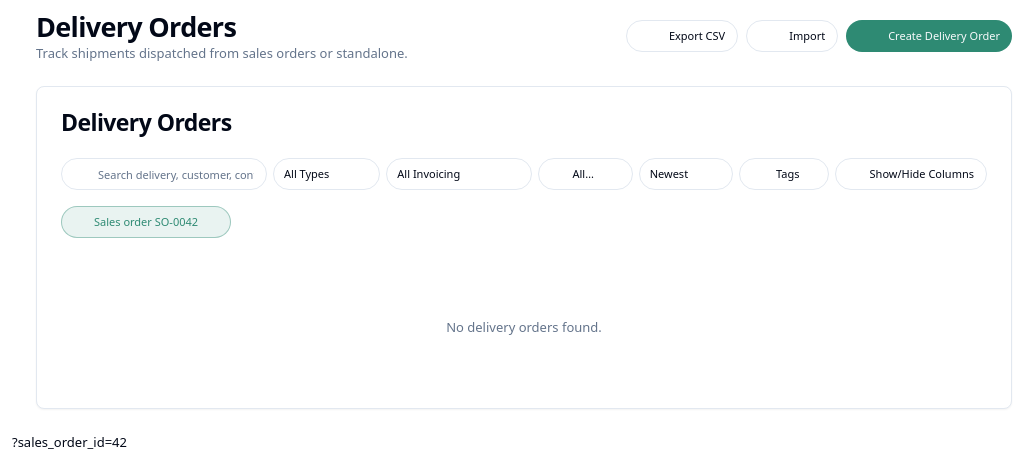
Test: #403 — list pages honour sales_order_id from the URL › Delivery Orders list filters by the sales order and shows a removable chip
The width and height of the screenshot is (1029, 466).
Expected: the element with test id "sales-order-filter-chip" reads "Sales order SO-0042", [61,206,231,238]
Click the button with test id "sales-order-filter-chip-remove". click: (215, 222)
box: [206,213,224,231]
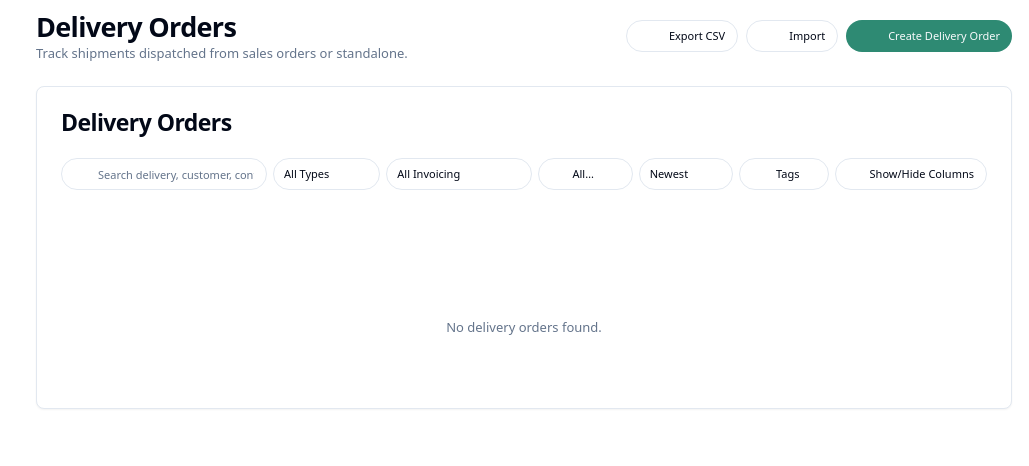
Expected: the element with test id "sales-order-filter-chip" is gone
Expected: the text with test id "location-search" no longer shows "sales_order_id"
